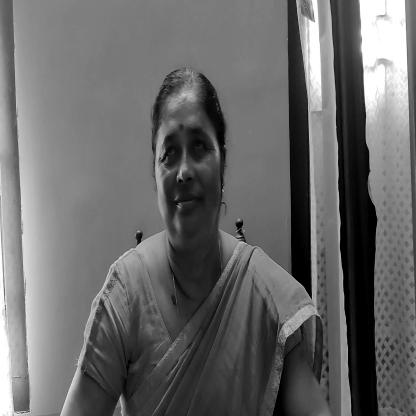Normal: (148, 63, 233, 263)
